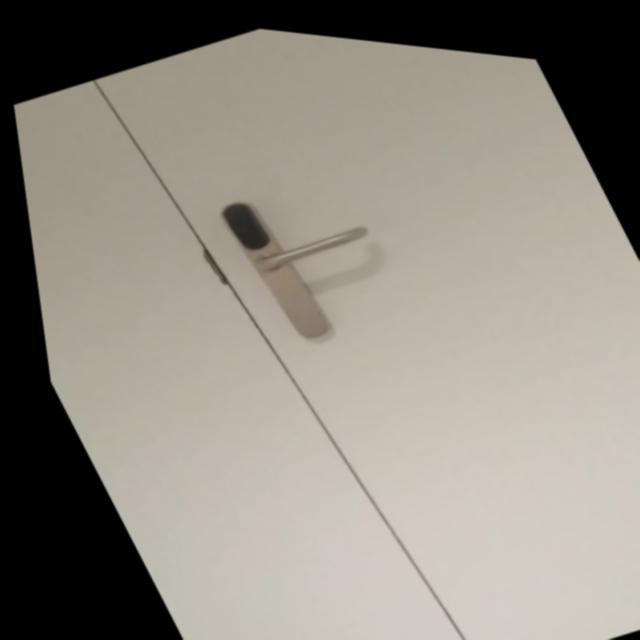door_handle: (232, 196, 380, 285)
